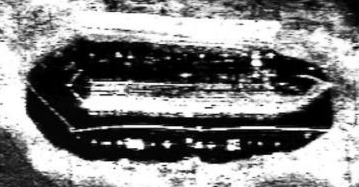ship: (23, 24, 350, 156)
